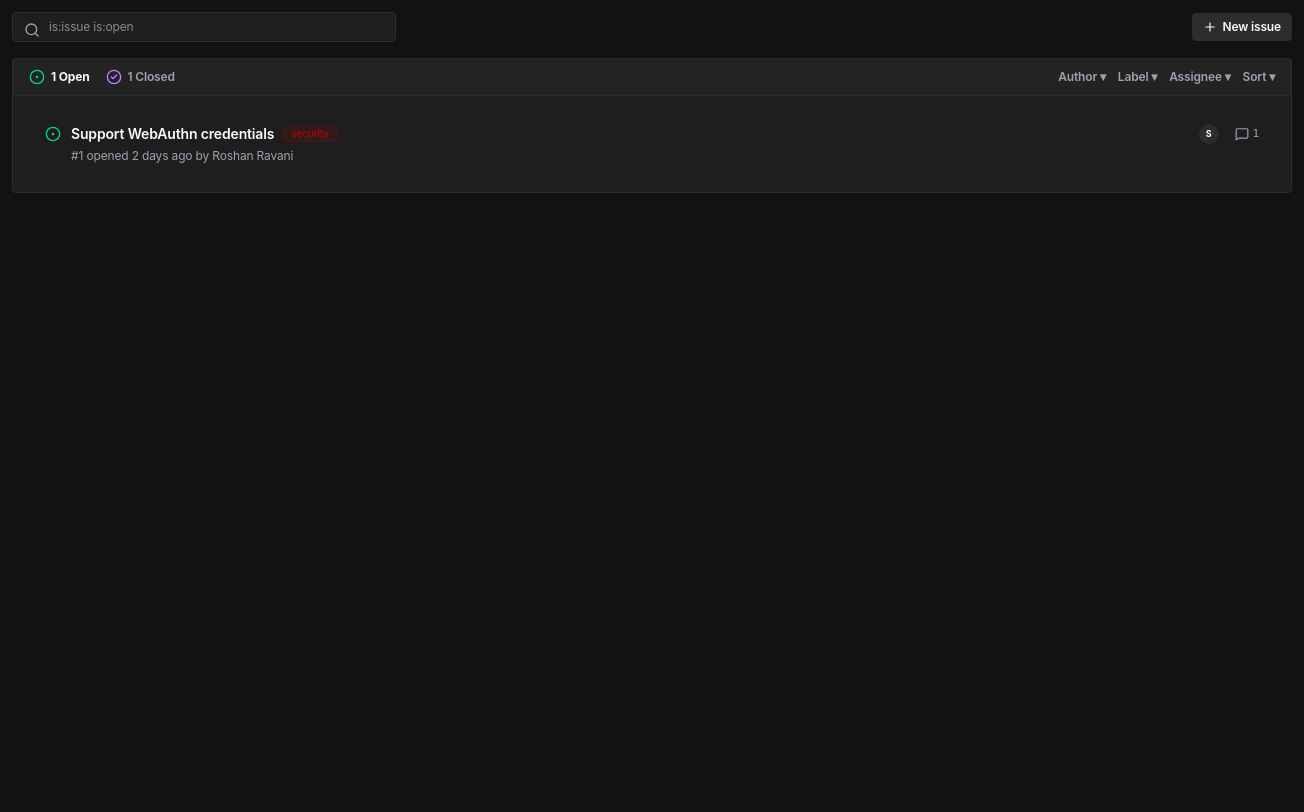
Test: IssuesView › delegates issue to Exist Agent and displays autonomous agent response
The image size is (1304, 812).
Step 1. Click the text "Support WebAuthn credentials" → {"x": 173, "y": 134}, box [71, 124, 274, 144]
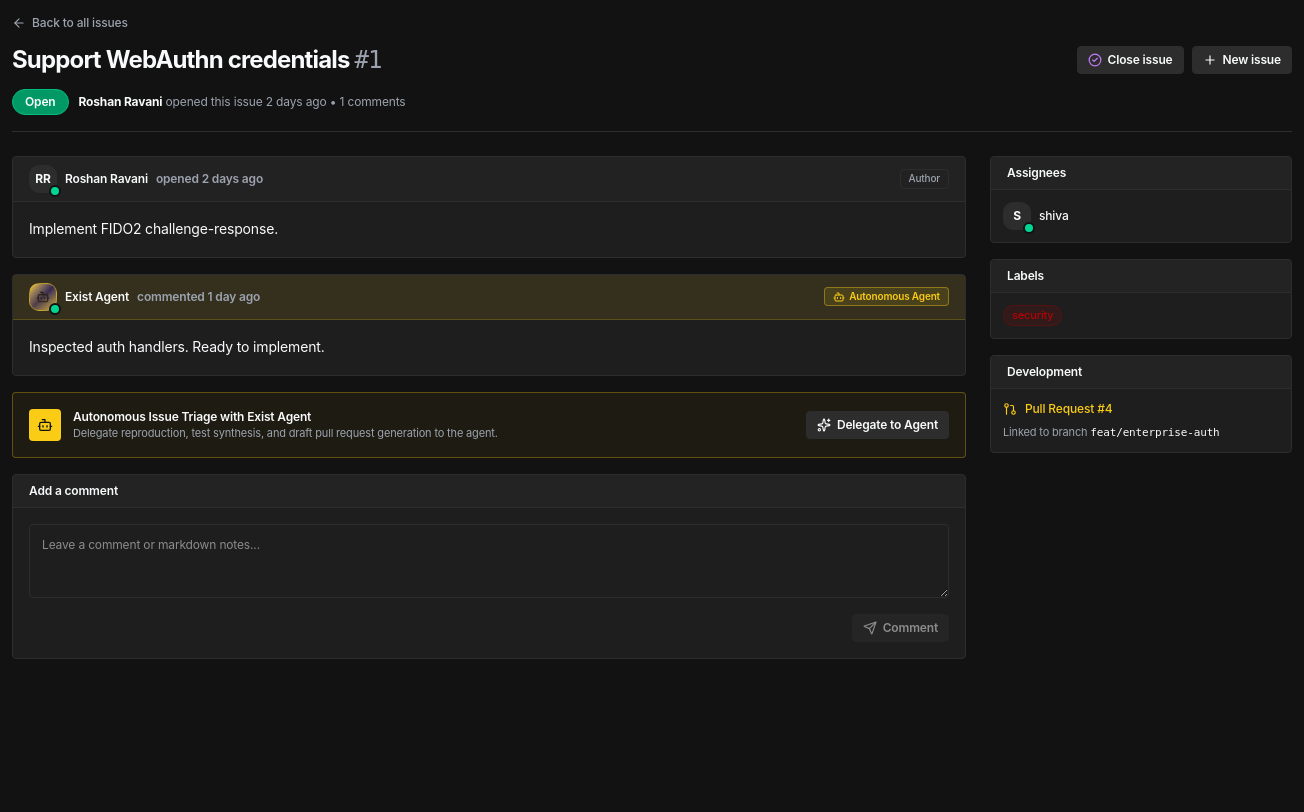
// Click "Delegate to Agent"
Step 2. Click the button "Delegate to Agent" → {"x": 877, "y": 425}, box [806, 411, 949, 439]
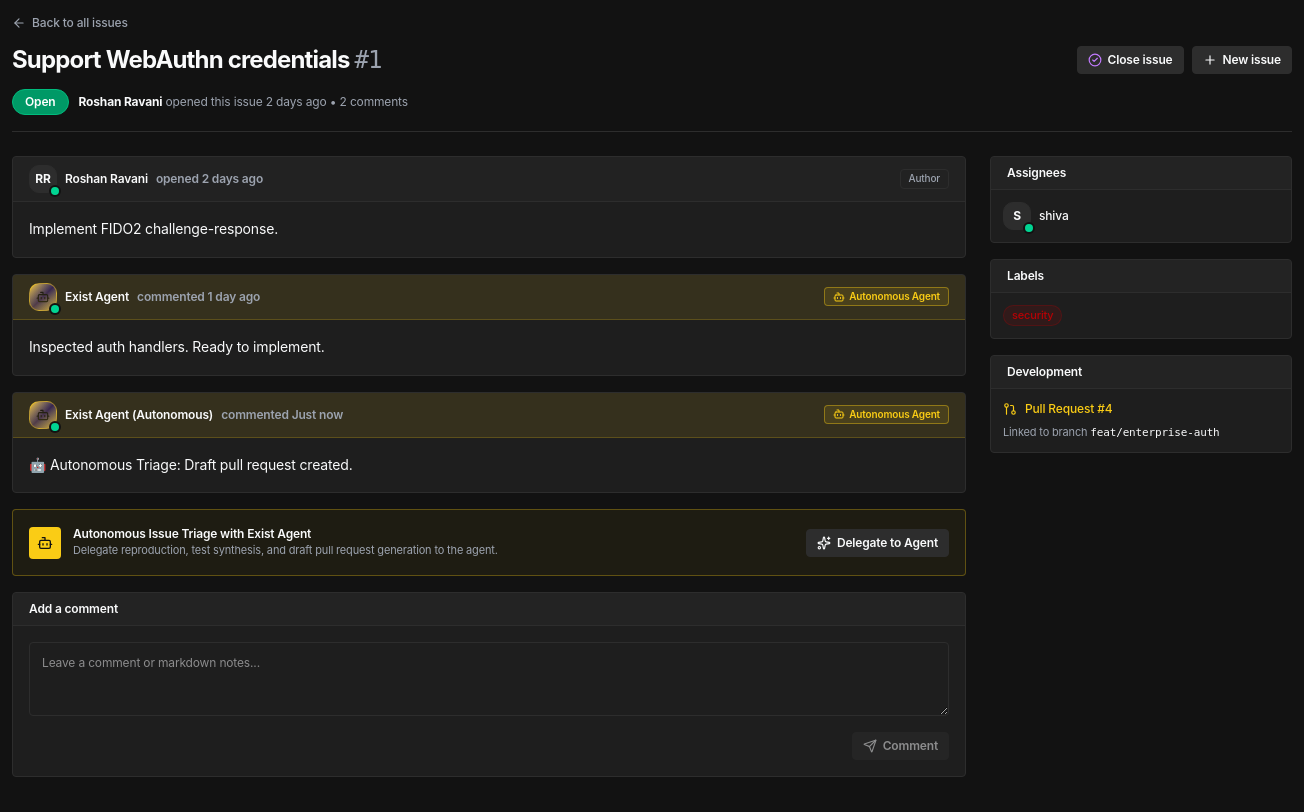
Expected: the text "🤖 Autonomous Triage: Draft pull request created." is shown, [29, 456, 353, 472]
